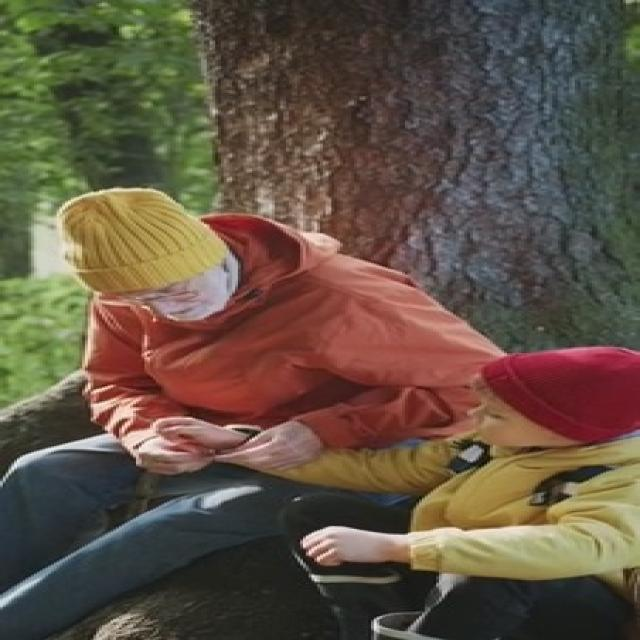Jacket_Wearer: (110, 253, 534, 450)
Person: (53, 162, 453, 530)
